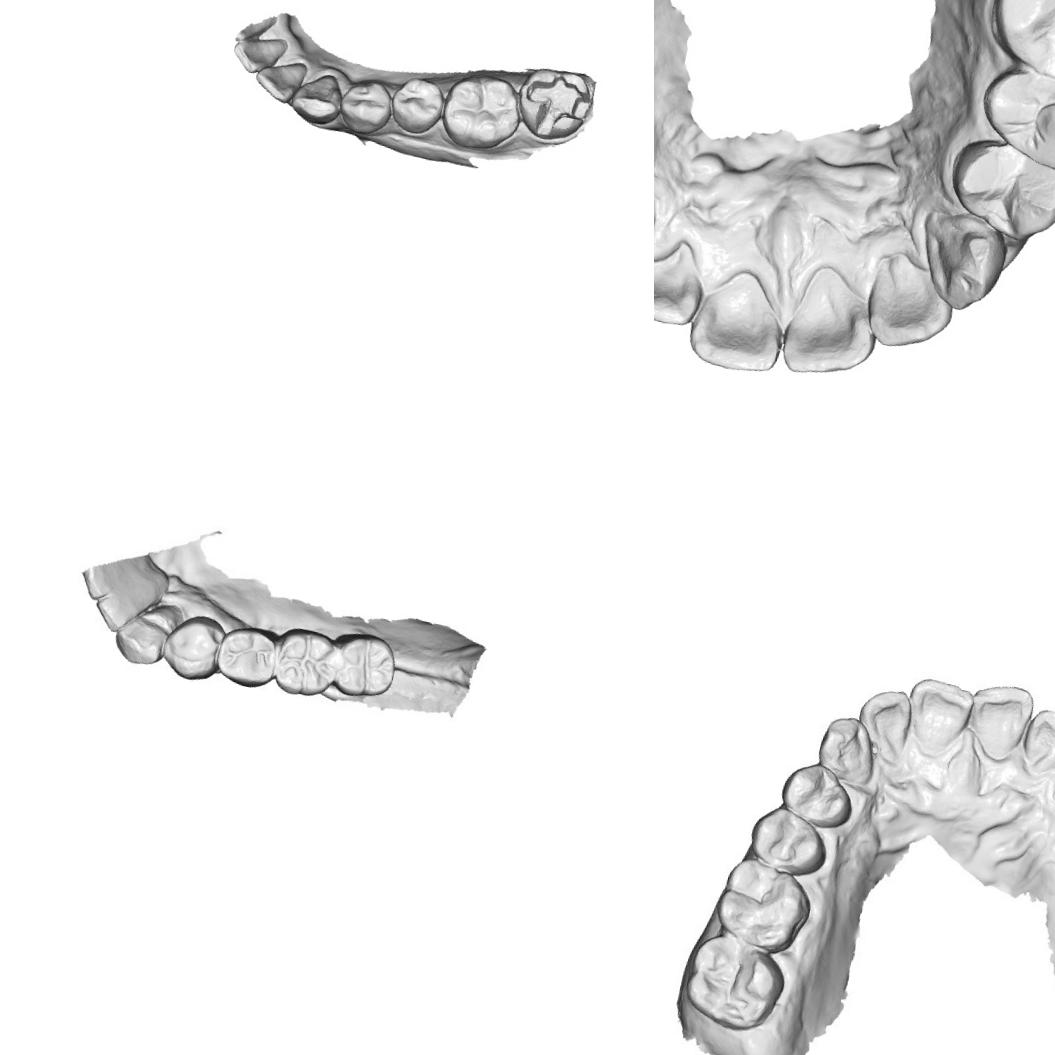canine: (908, 204, 1012, 317), (813, 710, 881, 786), (110, 602, 174, 672), (284, 65, 350, 131)
incisor: (776, 264, 886, 387), (682, 265, 796, 379), (857, 253, 962, 360), (900, 674, 975, 760), (966, 679, 1039, 766), (654, 237, 709, 330), (854, 685, 918, 762), (250, 52, 310, 108), (229, 27, 291, 81), (1016, 708, 1055, 788), (92, 586, 145, 636), (76, 559, 119, 606)
inlay: (516, 66, 596, 145)
molar: (680, 934, 791, 1039), (712, 854, 816, 957), (434, 67, 527, 158), (982, 0, 1055, 93), (264, 621, 344, 704), (322, 626, 404, 704)
premolar: (942, 132, 1055, 245), (975, 64, 1055, 174), (740, 801, 832, 879), (774, 756, 860, 835), (156, 610, 232, 689), (212, 622, 284, 694), (385, 72, 450, 139), (334, 72, 398, 140)
